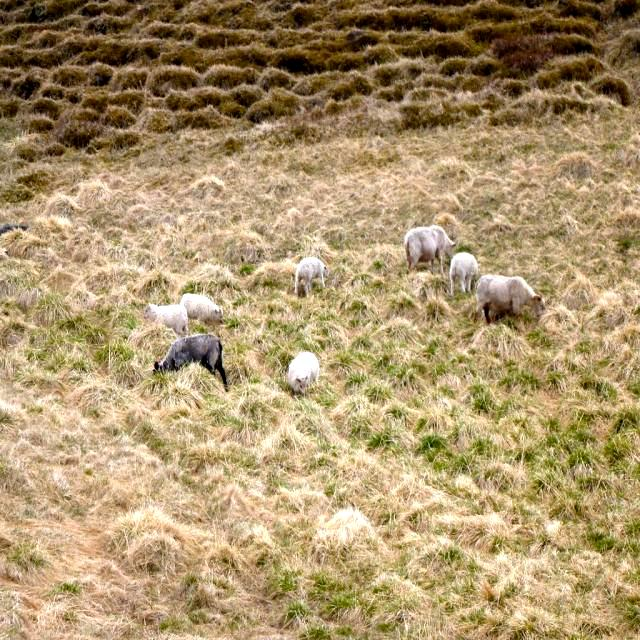sheep: (476, 275, 543, 324), (406, 225, 455, 267), (145, 303, 187, 335), (294, 257, 328, 295), (289, 353, 318, 394), (181, 294, 222, 320)
